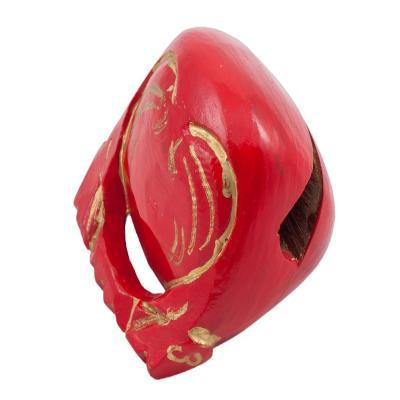other: (72, 27, 336, 381)
